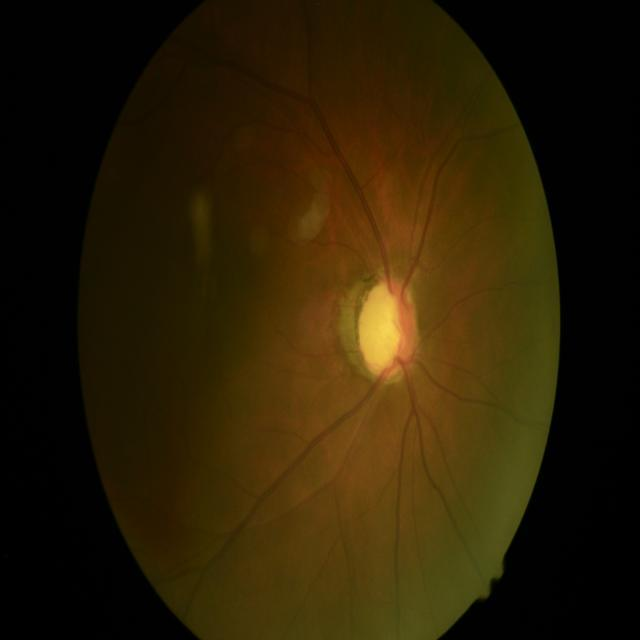cup: (360, 292, 404, 372)
disk: (358, 281, 420, 384)
